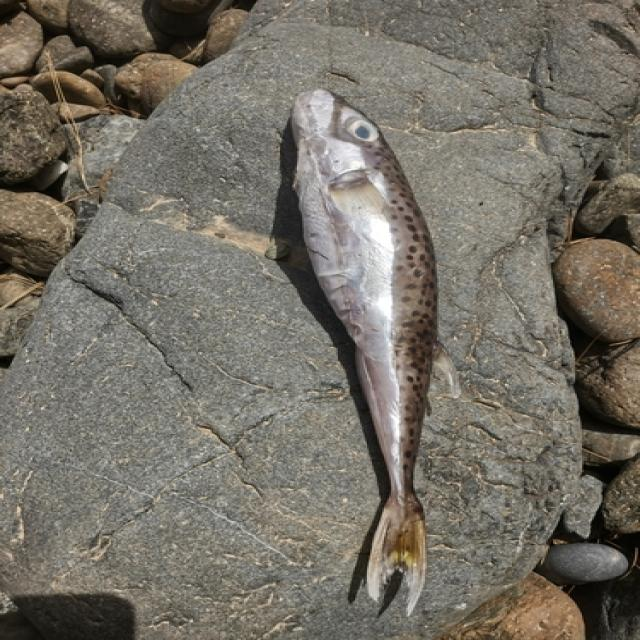Balik: (292, 90, 459, 614)
